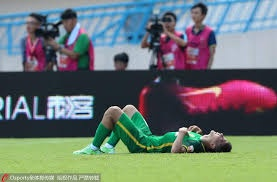falling: (72, 102, 236, 156)
